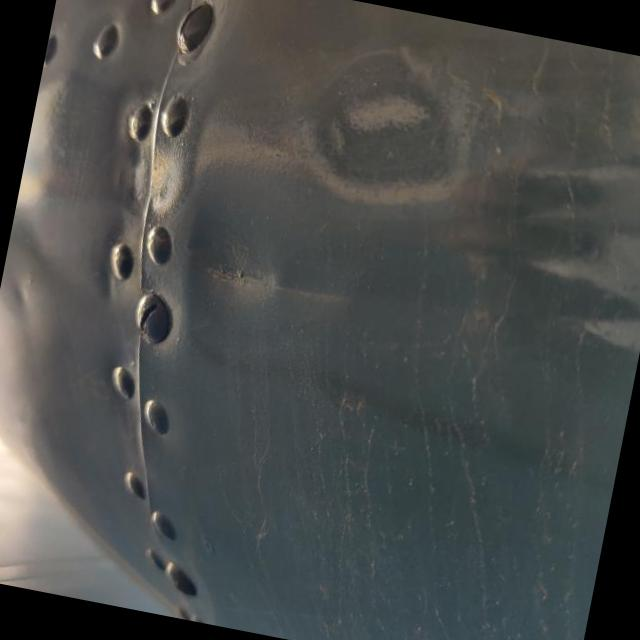Dent: (308, 46, 481, 204), (184, 207, 304, 319)
